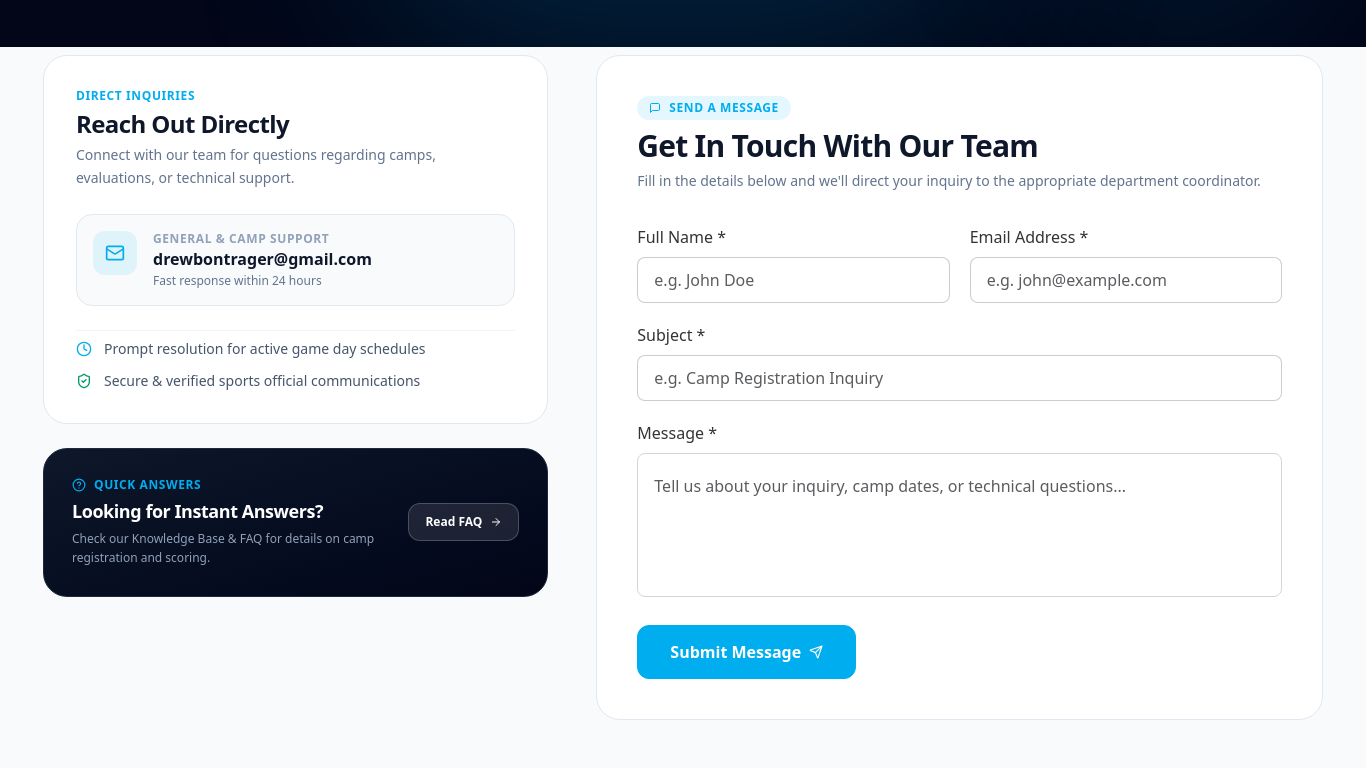
Test: ContactUs Page Component › displays validation error messages when submitting empty form
(page scrolled)
Click the button "Submit Message": click(747, 652) 637,625 -> 856,679
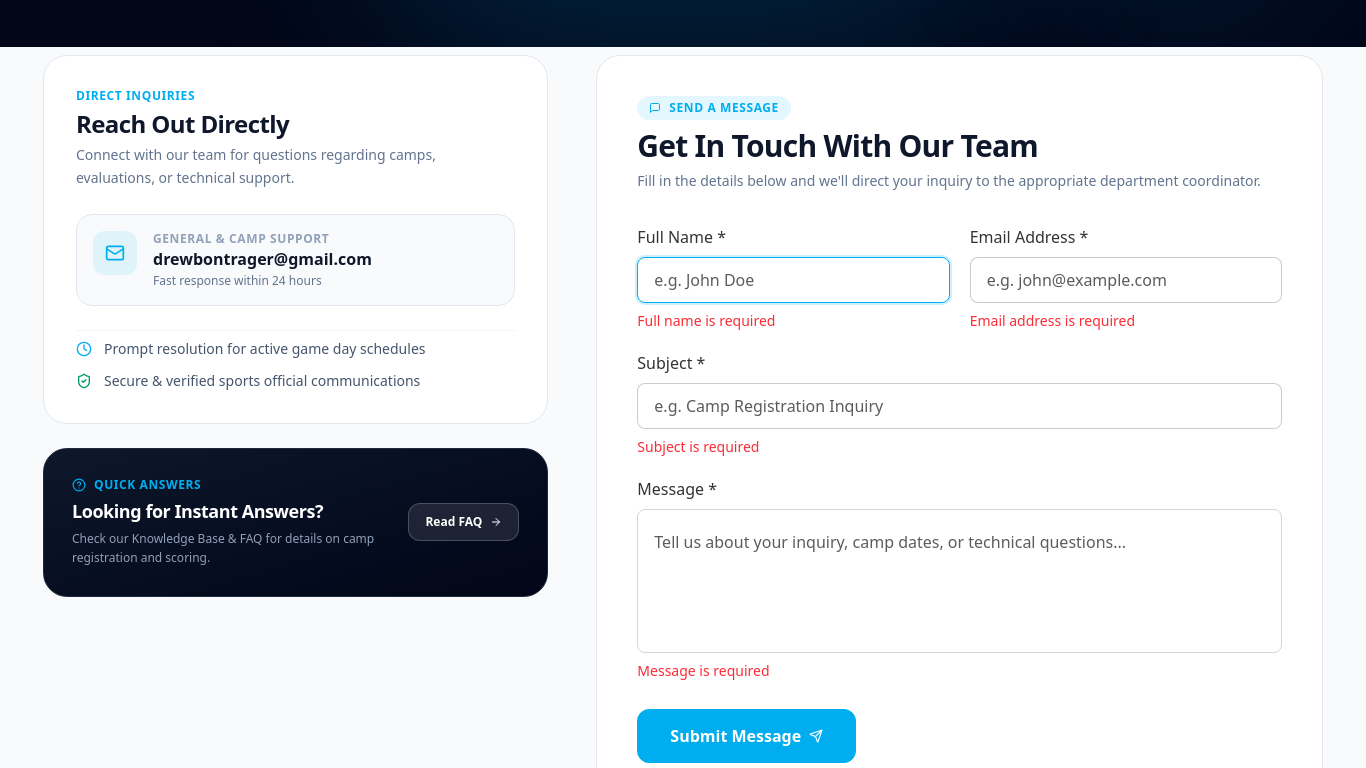
Expected: the text "Full name is required" is shown, 637,311 -> 776,331
Expected: the text "Email address is required" is shown, 970,311 -> 1135,331
Expected: the text "Subject is required" is shown, 637,437 -> 759,457
